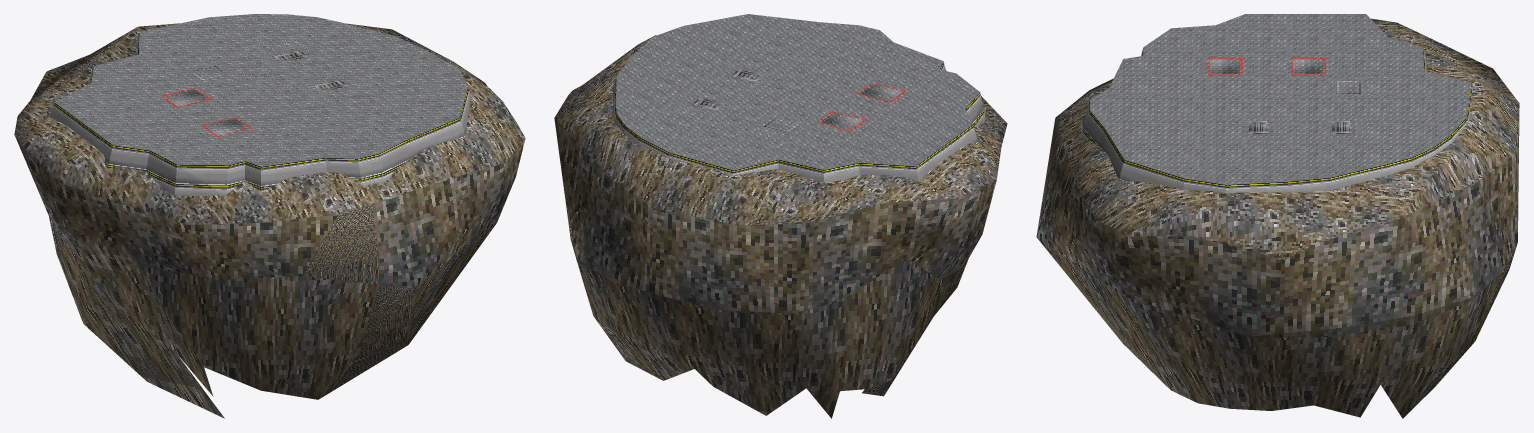
The model's file is AsteroidCorpY.glb.
3 renders of one model, left to right at view 1: azimuth 30°, elevation 25°; view 2: azimuth 150°, elevation 25°; view 3: azimuth 270°, elevation 25°, orthographic. The views are drawn at different scales.
Visible parts, largest first — view 1: AsteroidCorpY; view 2: AsteroidCorpY; view 3: AsteroidCorpY.
Boxes of the visible parts, x1,y1,x2,y2 form: AsteroidCorpY: (14, 14, 525, 418); AsteroidCorpY: (554, 14, 1007, 418); AsteroidCorpY: (1036, 14, 1519, 418).
Size of the model in its own units: 229 by 152 by 213.
Materials: 8 (8 with a texture image).
